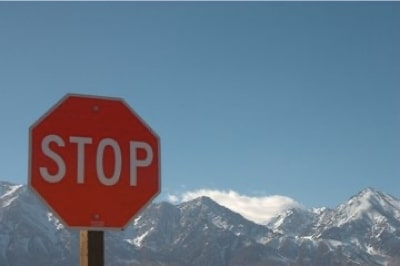StopSign: (26, 91, 164, 233)
